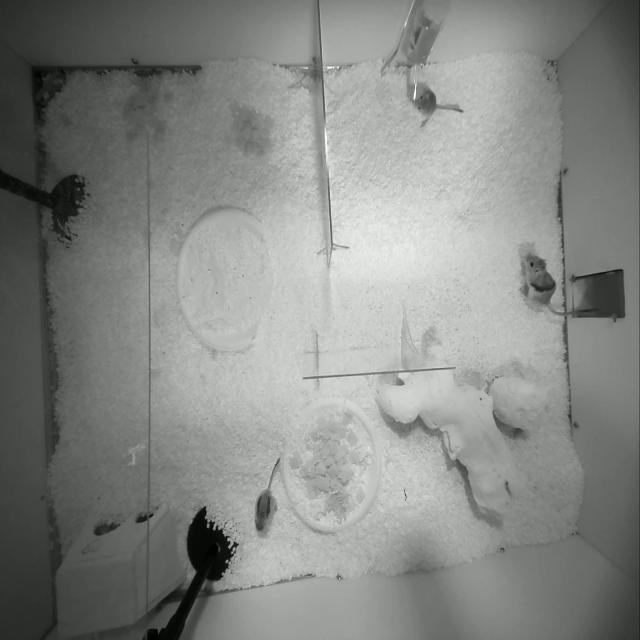adult_front: (521, 252, 572, 316)
pup_fluffy: (413, 85, 463, 126)
pup_v_stripe: (255, 458, 279, 530)
